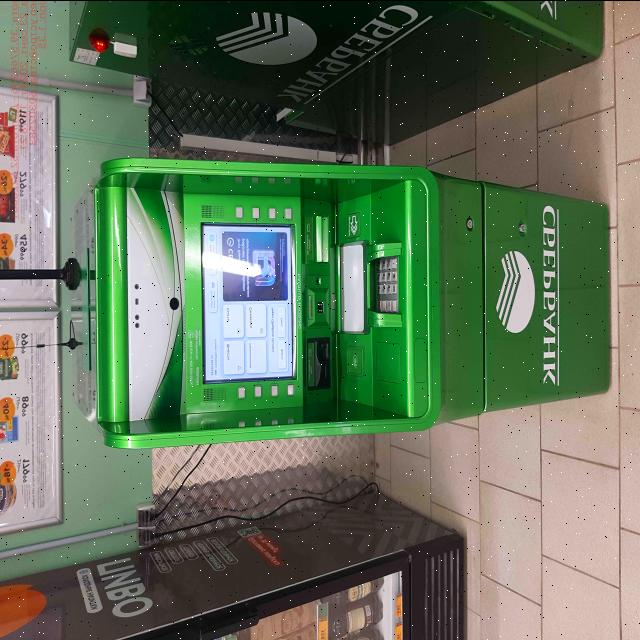bank: (72, 150, 610, 452), (71, 0, 612, 154)
